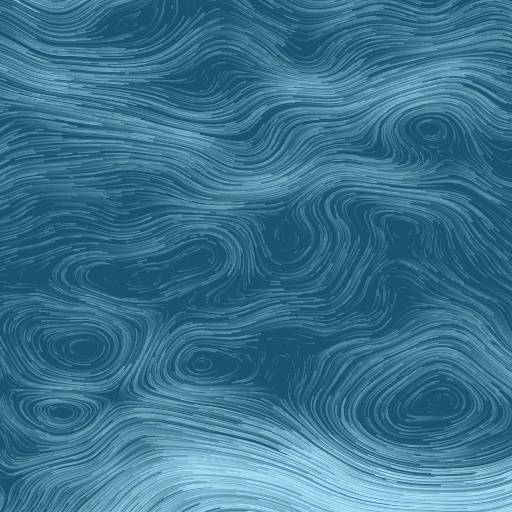eddy: (357, 345, 509, 468), (32, 313, 137, 383), (114, 240, 230, 299), (17, 391, 107, 436), (174, 336, 243, 382), (406, 110, 458, 149)
